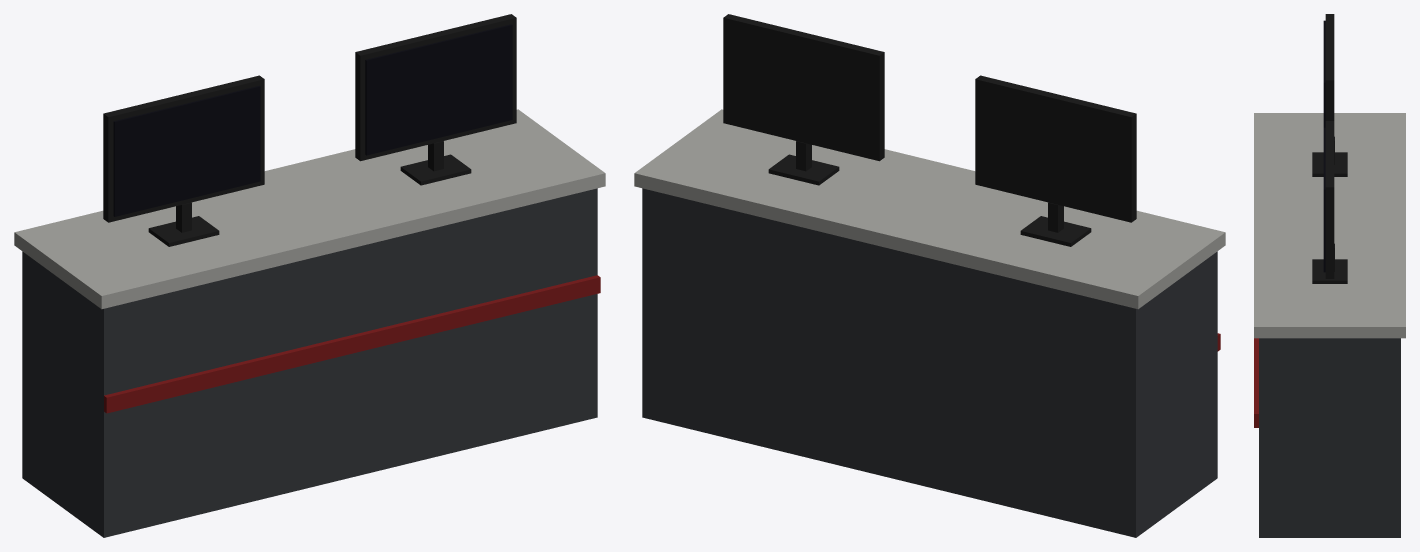
The model's file is screen_counter.glb.
3 renders of one model, left to right at view 1: azimuth 30°, elevation 25°; view 2: azimuth 150°, elevation 25°; view 3: azimuth 270°, elevation 25°, orthographic. The views are drawn at different scales.
Visible parts, largest first — view 1: screen_counter; view 2: screen_counter; view 3: screen_counter.
Boxes of the visible parts, box(x1,y1,x2,y2) form: screen_counter: box(14, 14, 605, 537); screen_counter: box(634, 14, 1225, 537); screen_counter: box(1254, 14, 1405, 537).
Size of the model in its own units: 2 by 1.45 by 0.6.
